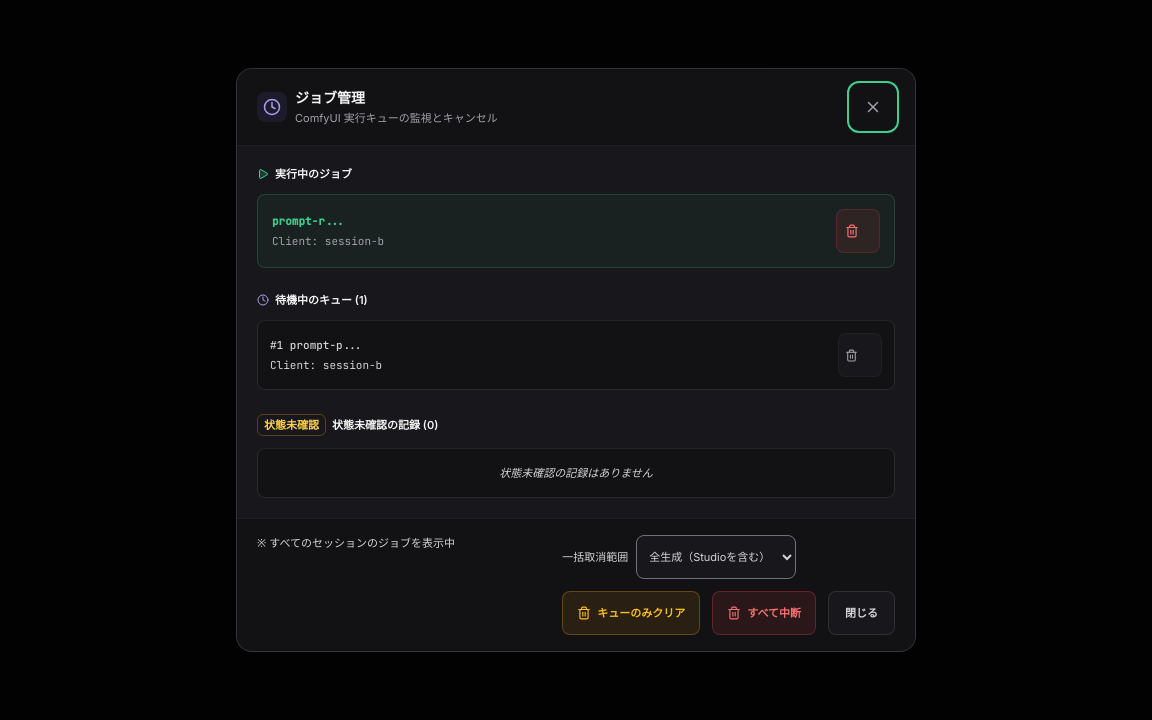
Scenario: JobManagementModal › keeps the modal open and reports confirmed versus unconfirmed results for partial completion
Click the button "キューのみクリア" at (631, 613), box [562,591,700,635]
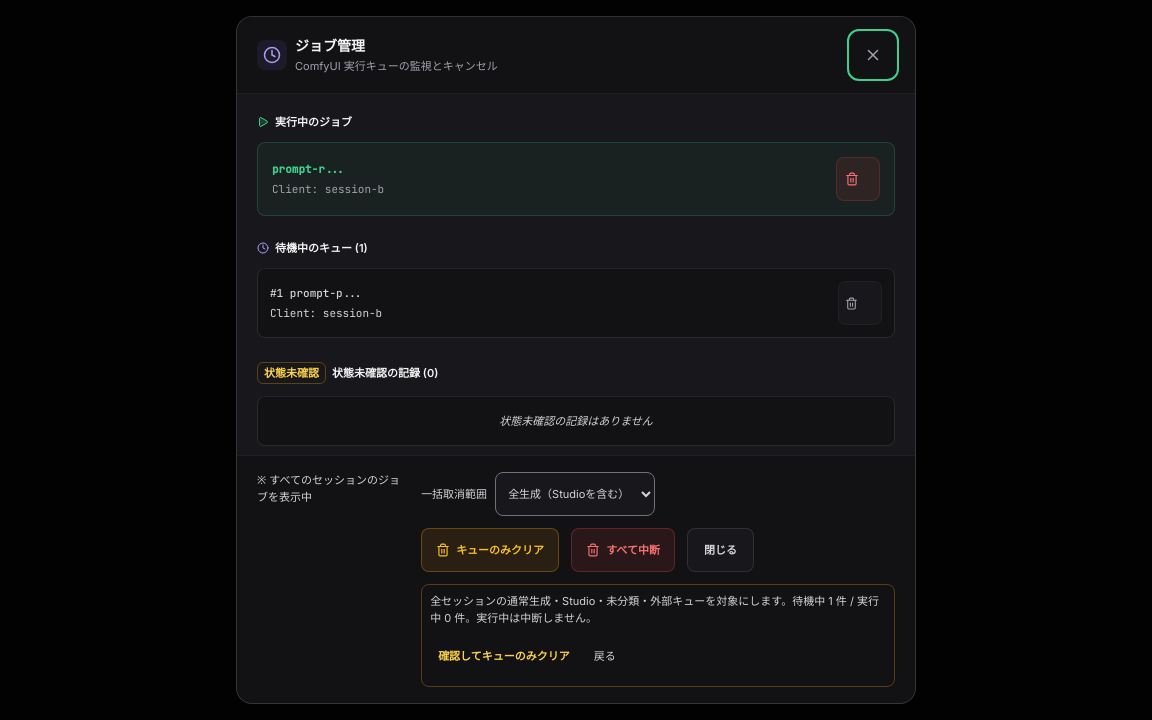
Click the button "確認してキューのみクリア" at (504, 656), box [430,634,578,678]
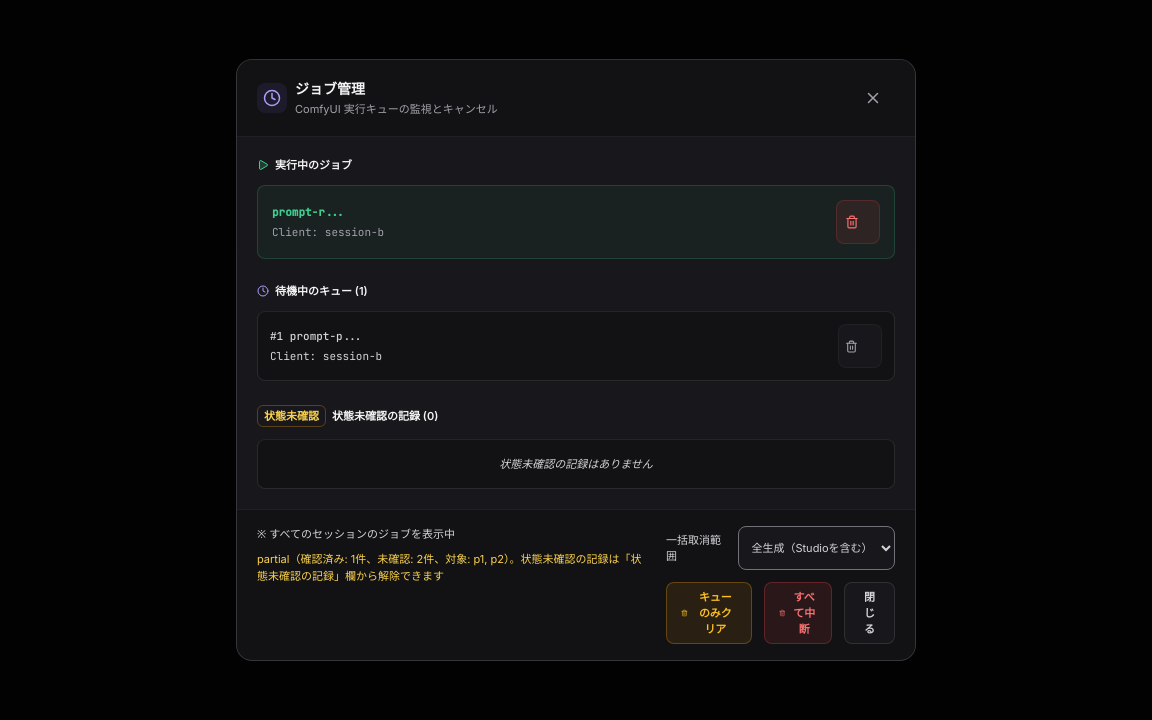
Expected: the text "partial（確認済み: 1件、未確認: 2件、対象: p1, p2）。状態未確認の記録は「状態未確認の記録」欄から解除できます" is shown, [257,550,650,586]
